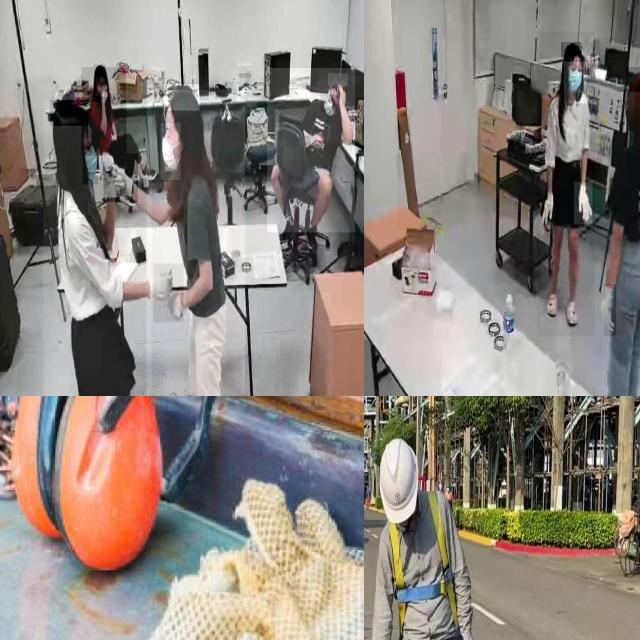Ear-protection: (10, 396, 243, 562)
Harness: (389, 491, 459, 632)
face_mask: (160, 123, 180, 180), (564, 62, 586, 104), (82, 142, 98, 184), (320, 94, 338, 112)
face_nomask: (96, 78, 106, 97)
hand_glove: (154, 264, 184, 323), (104, 154, 138, 202), (543, 184, 559, 237), (574, 182, 593, 225), (604, 284, 616, 337)
hand_noglove: (337, 81, 346, 107), (311, 132, 323, 149), (100, 86, 108, 102)
head_nohelmet: (51, 100, 89, 127), (164, 84, 200, 112), (626, 67, 640, 93), (561, 42, 582, 59), (328, 73, 348, 87), (94, 65, 106, 75)
person: (43, 101, 152, 396), (146, 90, 245, 396), (537, 31, 595, 338), (267, 68, 355, 233), (602, 59, 640, 396), (82, 67, 126, 156)
